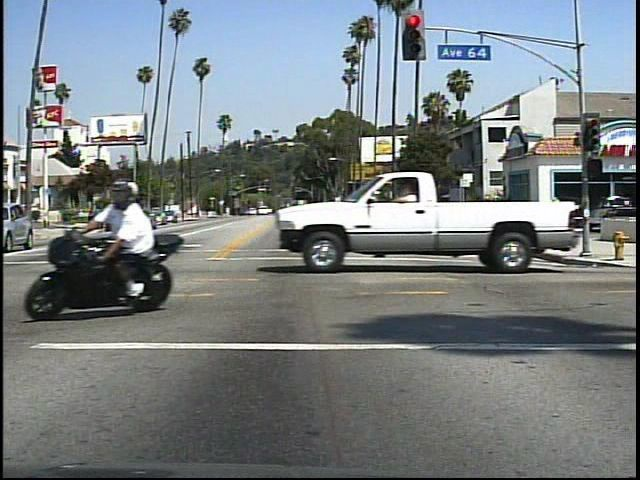person: (95, 177, 174, 311), (542, 193, 570, 246)
